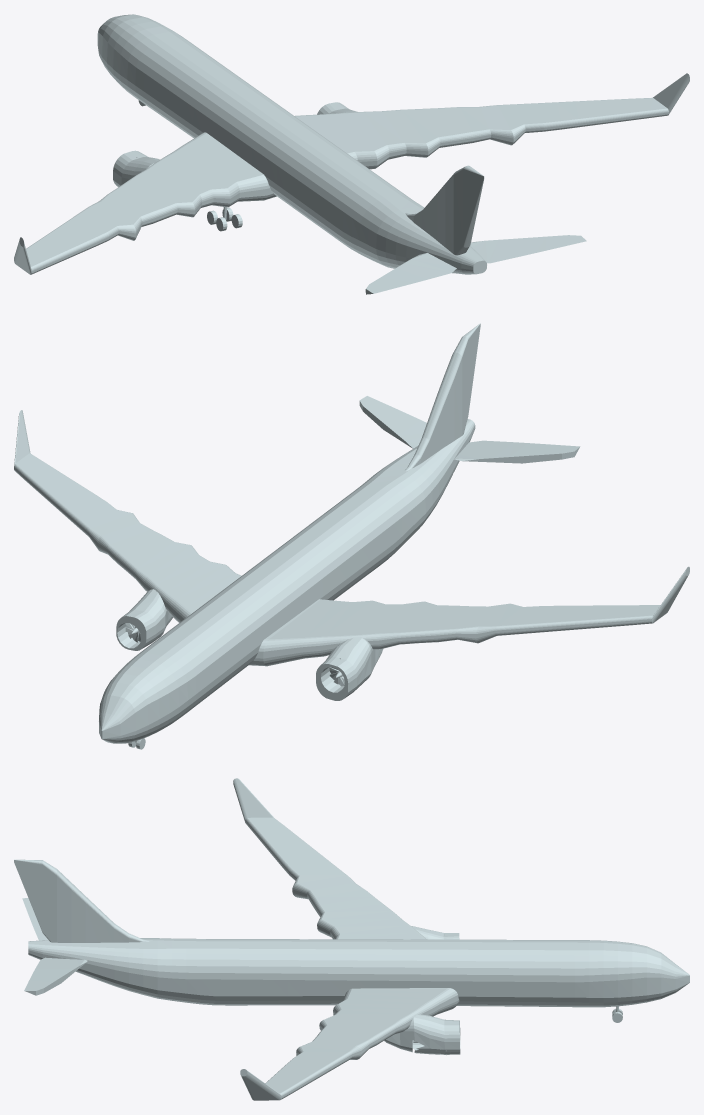
The picture shows the model from 3 angles, top to bottom: view 1: azimuth 30°, elevation 25°; view 2: azimuth 150°, elevation 25°; view 3: azimuth 270°, elevation 25°; orthographic projection. The views are drawn at different scales.
Parts seen in each view (by area): view 1: Aircraft visual hull, Landing gear; view 2: Aircraft visual hull; view 3: Aircraft visual hull.
Part boxes in pixels (<box>): Aircraft visual hull: <box>14,14,689,294</box>; Landing gear: <box>138,100,242,231</box>; Aircraft visual hull: <box>14,323,689,743</box>; Aircraft visual hull: <box>14,778,689,1100</box>.
Size of the model in its own units: 64.48 by 16.54 by 63.85.
